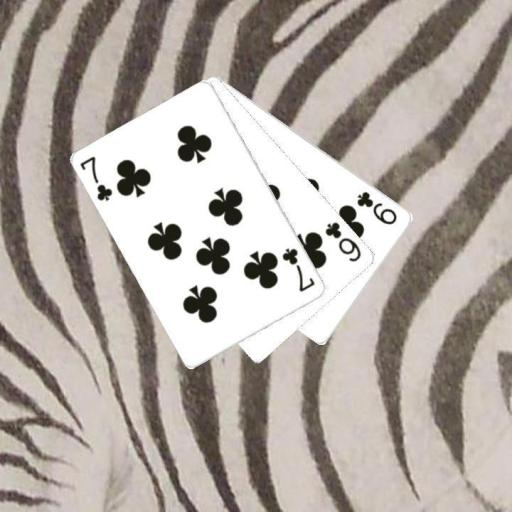card-corner: (322, 218, 364, 264), (279, 244, 317, 294), (77, 153, 114, 203), (354, 188, 400, 227)
